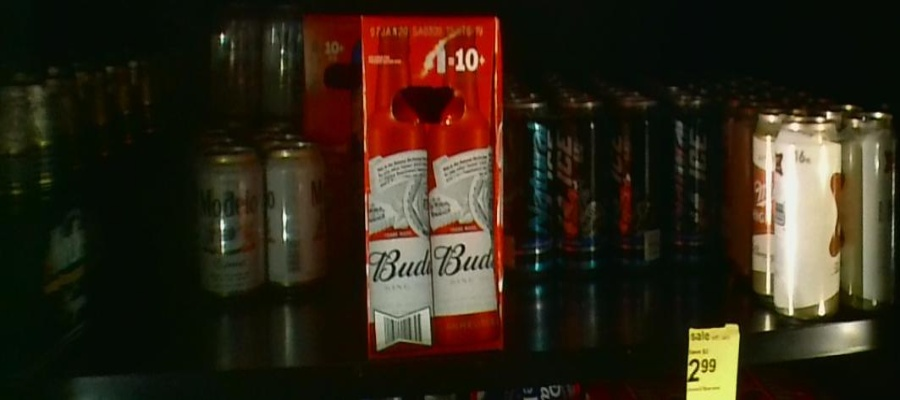bottle: (363, 15, 505, 354), (778, 117, 900, 324), (188, 142, 319, 298), (609, 99, 717, 275), (505, 105, 608, 278), (303, 22, 363, 270)
